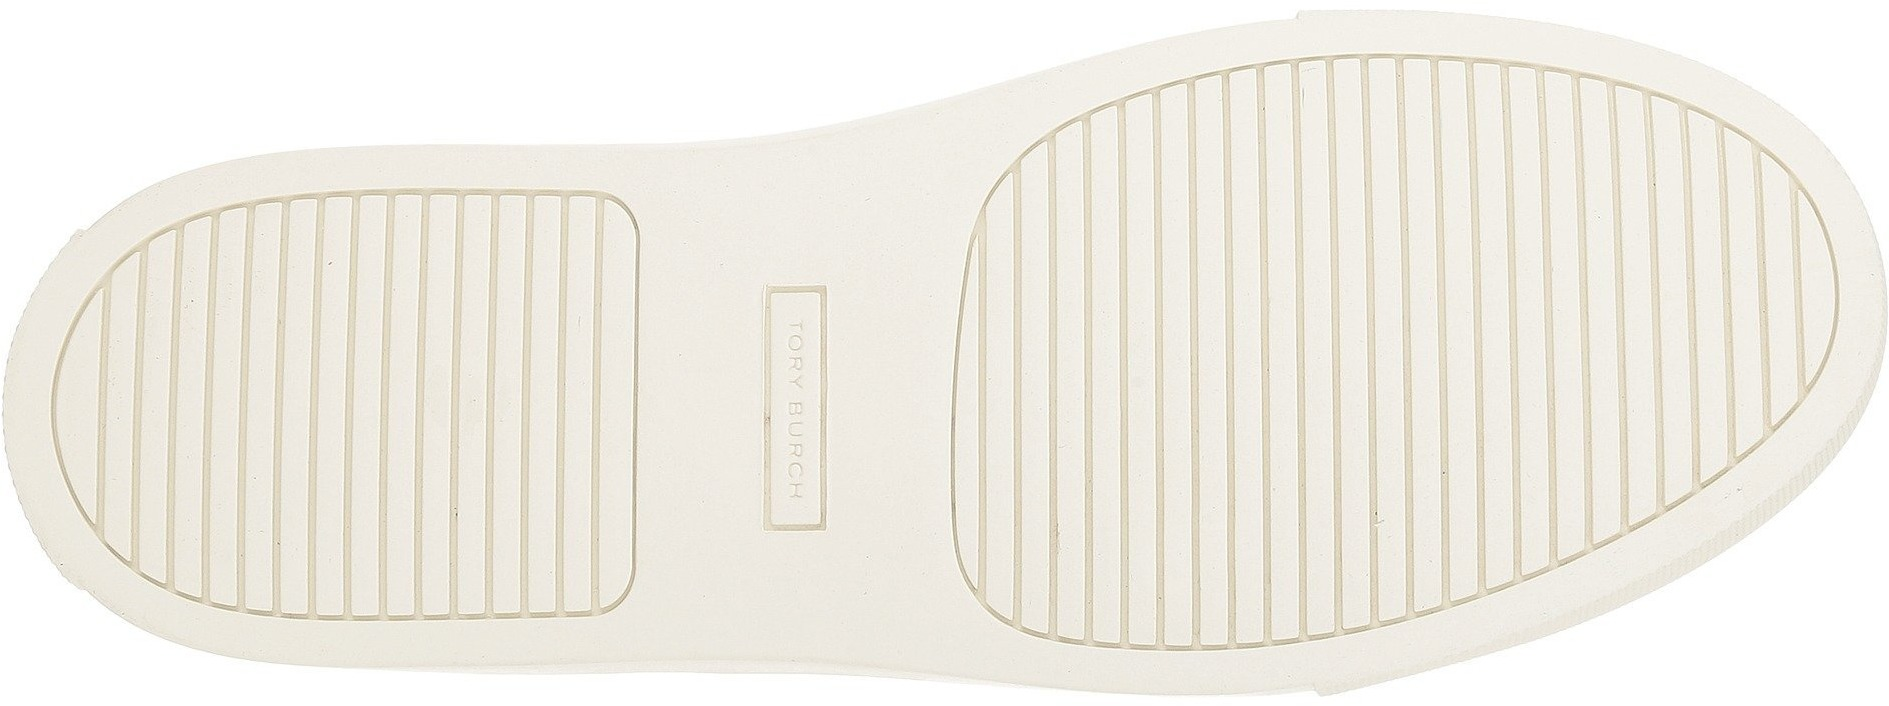line: (985, 200, 1306, 535), (1317, 95, 1614, 386), (352, 207, 632, 507), (114, 266, 348, 494), (1328, 389, 1535, 573), (1619, 200, 1816, 393)
other: (746, 152, 876, 280), (757, 545, 872, 651)
quad: (352, 207, 632, 507), (712, 280, 932, 542)
text: (712, 280, 932, 542), (760, 308, 828, 376), (773, 463, 838, 514), (771, 400, 829, 454)
